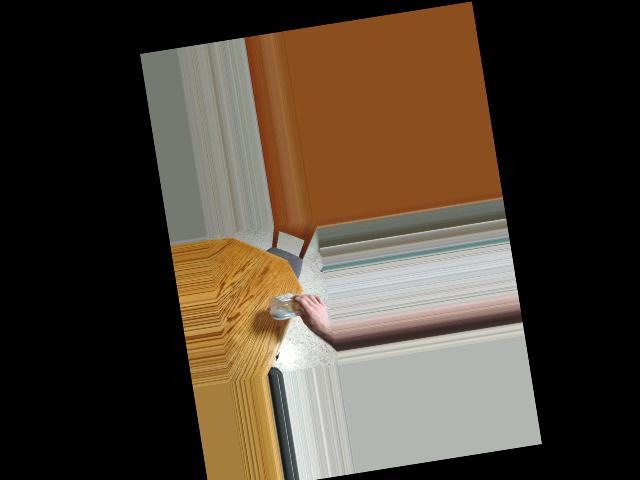cheese: (262, 283, 314, 331)
